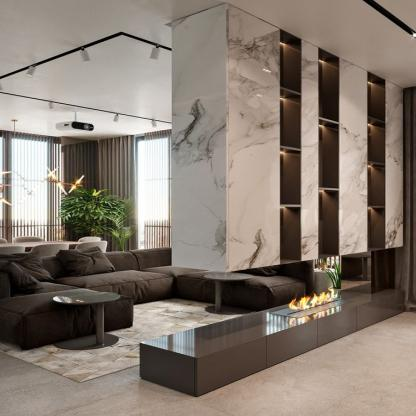Carpet: (9, 299, 235, 383)
Curtains: (88, 132, 177, 258), (0, 137, 61, 249)
Gypsum Board: (0, 2, 173, 135), (217, 0, 416, 90)
Sofa: (0, 239, 165, 352)
Wall Panel: (223, 4, 410, 279)
